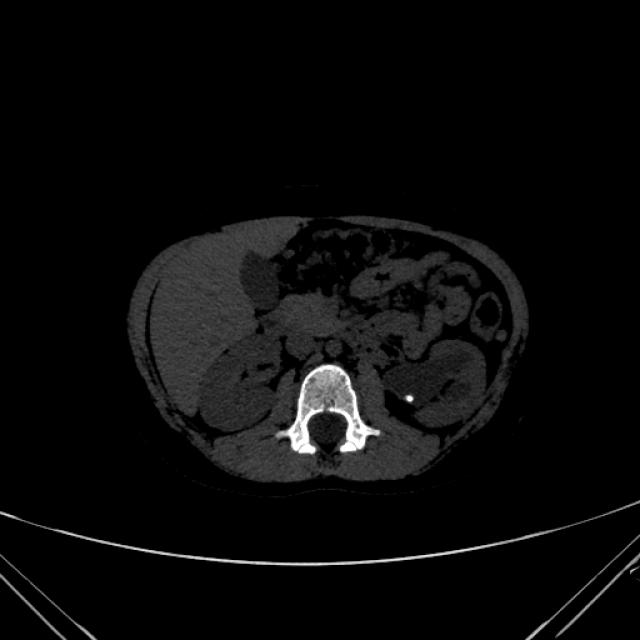kidneystone: (404, 394, 414, 403)
